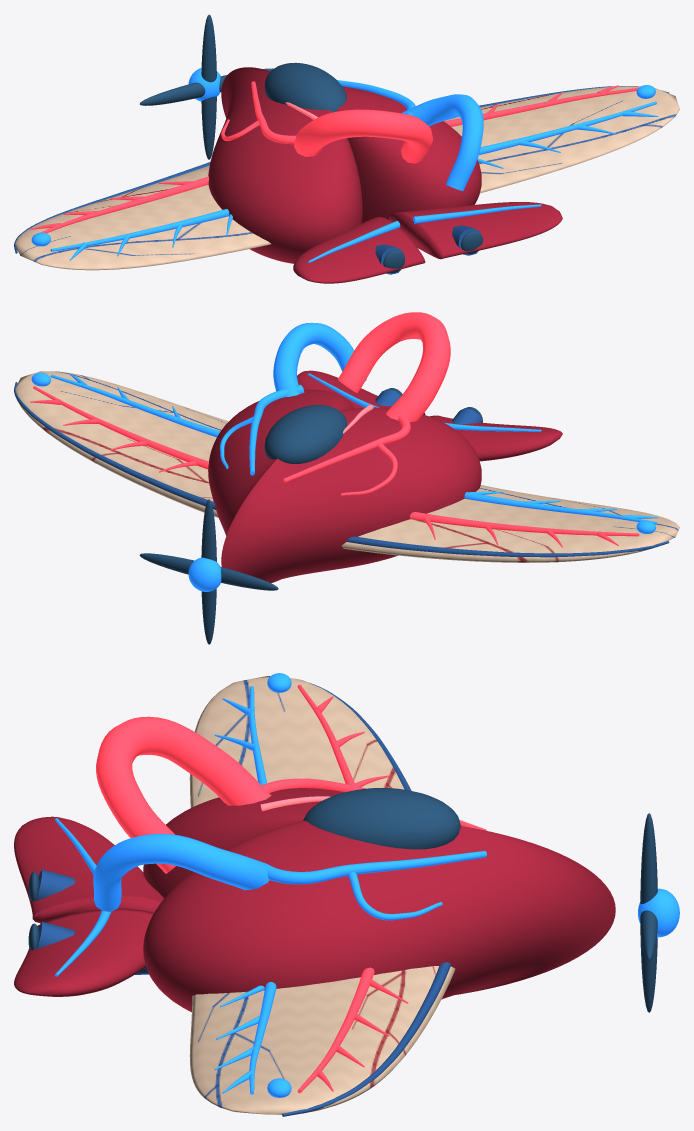
Rendered from cardiac-ventricle.glb.
3 renders of one model, top to bottom at view 1: azimuth 30°, elevation 25°; view 2: azimuth 150°, elevation 25°; view 3: azimuth 270°, elevation 25°, orthographic. The views are drawn at different scales.
Parts seen in each view (by area): view 1: VentricleCore, Left membrane, Right membrane, Right tail membrane, Left tail membrane, Aortic arch, Venous return, Atrial canopy, Valve propeller, Right venous network, Left arterial network, Left venous network (+8 smaller); view 2: VentricleCore, Right membrane, Left membrane, Aortic arch, Atrial canopy, Venous return, Left tail membrane, Left arterial network, Left rounded leading edge, Right arterial network, Left venous network, Valve propeller (+7 smaller); view 3: VentricleCore, Right membrane, Left membrane, Aortic arch, Right tail membrane, Left tail membrane, Atrial canopy, Venous return, Coronary vein, Valve propeller, Right arterial network, Right venous network (+9 smaller).
Boxes of the visible parts, left/top/right/bottom form: VentricleCore: left=208, top=67, right=481, bottom=263; Left membrane: left=15, top=165, right=270, bottom=270; Right membrane: left=443, top=86, right=679, bottom=193; Right tail membrane: left=388, top=202, right=562, bottom=259; Left tail membrane: left=293, top=217, right=425, bottom=283; Aortic arch: left=294, top=109, right=432, bottom=163; Venous return: left=402, top=94, right=483, bottom=190; Atrial canopy: left=264, top=62, right=346, bottom=111; Valve propeller: left=201, top=14, right=216, bottom=159; Right venous network: left=477, top=101, right=658, bottom=168; Left arterial network: left=30, top=176, right=208, bottom=235; Left venous network: left=50, top=209, right=232, bottom=260; VentricleCore: left=208, top=389, right=481, bottom=587; Right membrane: left=15, top=371, right=228, bottom=517; Left membrane: left=341, top=485, right=679, bottom=562; Aortic arch: left=338, top=312, right=450, bottom=422; Atrial canopy: left=264, top=405, right=346, bottom=463; Venous return: left=273, top=322, right=366, bottom=396; Left tail membrane: left=429, top=415, right=562, bottom=461; Left arterial network: left=410, top=512, right=639, bottom=547; Left rounded leading edge: left=346, top=536, right=669, bottom=557; Right arterial network: left=30, top=386, right=208, bottom=472; Left venous network: left=464, top=491, right=658, bottom=524; Valve propeller: left=201, top=499, right=216, bottom=644; VentricleCore: left=143, top=788, right=615, bottom=1012; Right membrane: left=189, top=966, right=455, bottom=1114; Left membrane: left=189, top=676, right=411, bottom=807; Aortic arch: left=96, top=716, right=271, bottom=873; Right tail membrane: left=14, top=908, right=153, bottom=996; Left tail membrane: left=14, top=816, right=164, bottom=923; Atrial canopy: left=303, top=788, right=460, bottom=849; Venous return: left=93, top=833, right=272, bottom=911; Coronary vein: left=266, top=851, right=486, bottom=884; Valve propeller: left=640, top=813, right=657, bottom=1012; Right arterial network: left=297, top=967, right=408, bottom=1093; Right venous network: left=214, top=982, right=276, bottom=1094.
Bounding box in the file's own units: 6.4 × 1.82 × 4.11.
7 materials, 1 textured.
